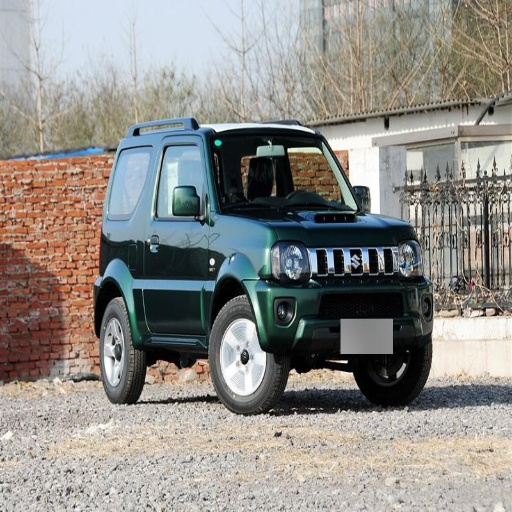front_bumper: (252, 242, 432, 363)
front_glass: (203, 132, 352, 217)
front_right_door: (147, 140, 208, 319)
front_right_light: (270, 243, 317, 283)
hood: (249, 210, 413, 245)
